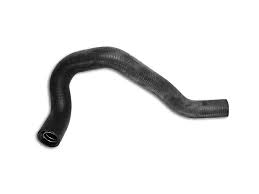radiator_hose: (41, 48, 229, 147)
